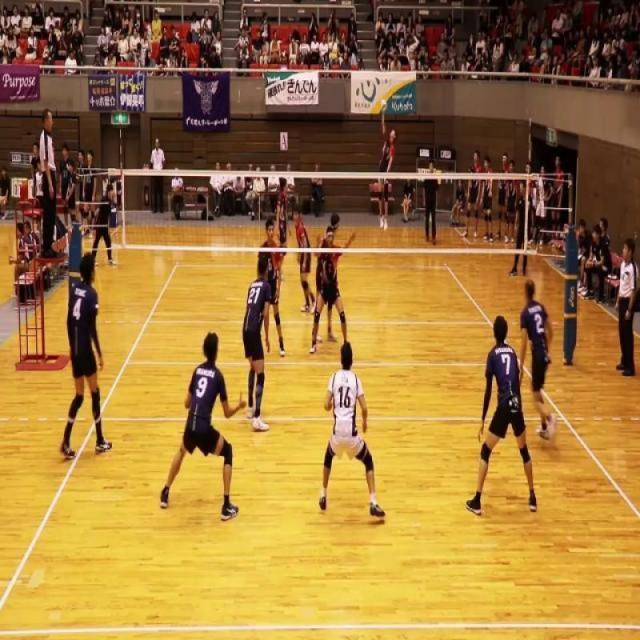volleyball: (380, 98, 388, 112)
